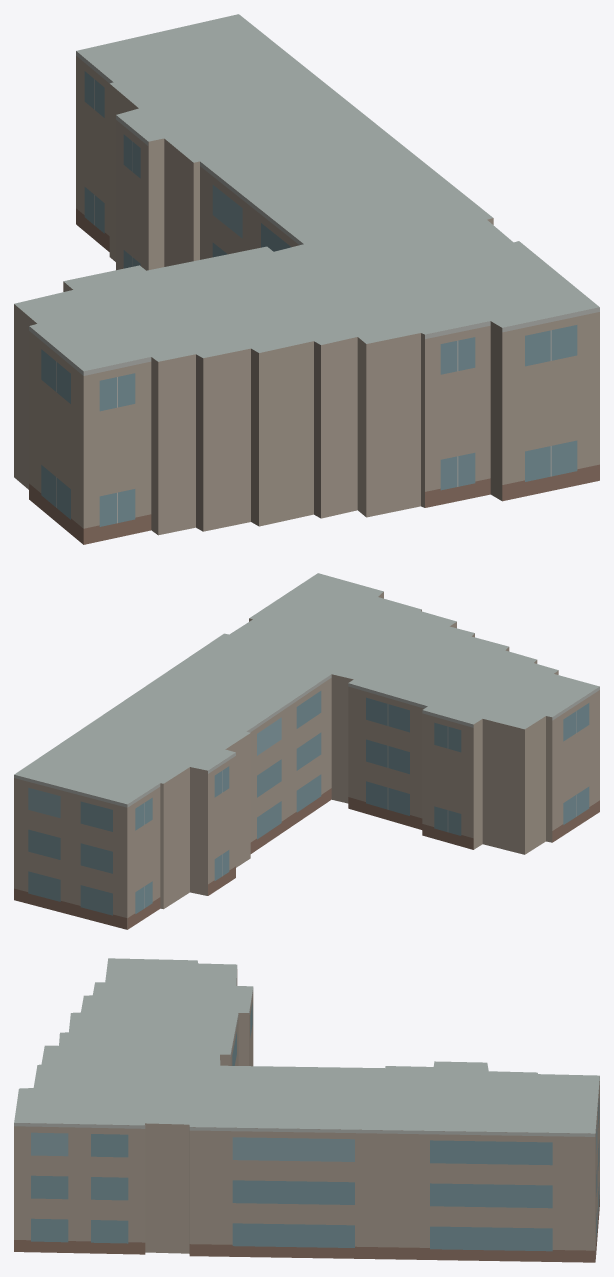
The model's file is survey-upis-32624447.glb.
The picture shows the model from 3 angles, top to bottom: view 1: azimuth 30°, elevation 25°; view 2: azimuth 150°, elevation 25°; view 3: azimuth 270°, elevation 25°; orthographic projection. The views are drawn at different scales.
Visible parts, largest first — view 1: survey-upis-32624447.tmp; view 2: survey-upis-32624447.tmp; view 3: survey-upis-32624447.tmp.
Part boxes in pixels (<box>): survey-upis-32624447.tmp: <box>14,14,599,544</box>; survey-upis-32624447.tmp: <box>14,573,599,929</box>; survey-upis-32624447.tmp: <box>14,958,599,1262</box>.
Bounding box in the file's own units: 26.65 × 9.15 × 37.65.
